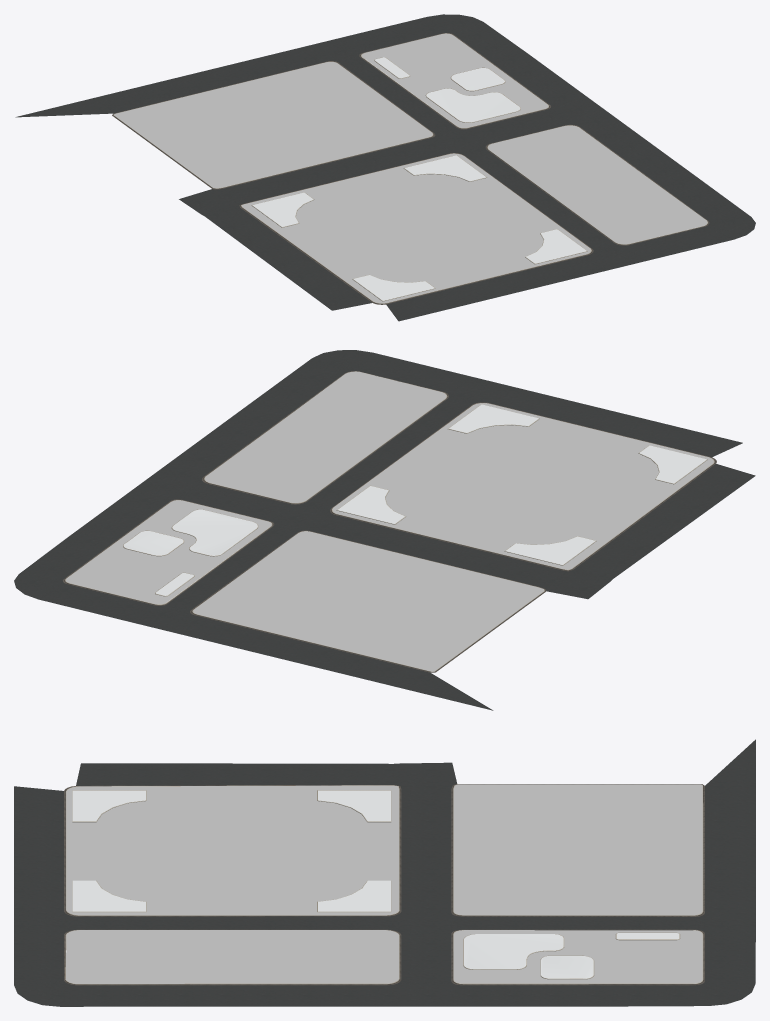
The model's file is Island_Area_06.fbx.
The picture shows the model from 3 angles, top to bottom: view 1: azimuth 30°, elevation 25°; view 2: azimuth 150°, elevation 25°; view 3: azimuth 270°, elevation 25°; orthographic projection. The views are drawn at different scales.
Visible parts, largest first — view 1: Island_Area_06; view 2: Island_Area_06; view 3: Island_Area_06.
Part boxes in pixels (x1,y1,x2,y2): Island_Area_06: (15,14,755,321); Island_Area_06: (14,350,755,710); Island_Area_06: (14,739,755,1006).
Size of the model in its own units: 20907 by 33.52 by 24496.
